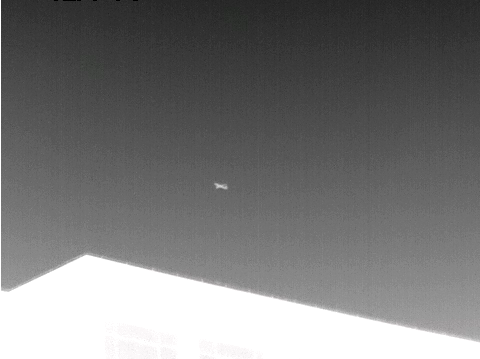dim target: (213, 181, 228, 191)
